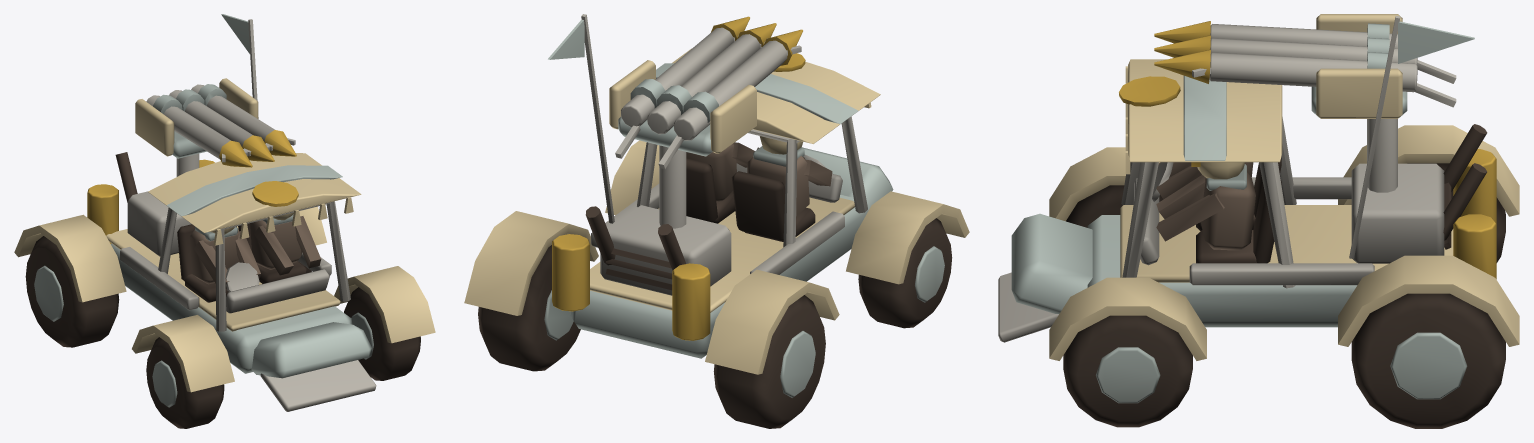
The model's file is lancer.glb.
The picture shows the model from 3 angles, left to right: view 1: azimuth 30°, elevation 25°; view 2: azimuth 150°, elevation 25°; view 3: azimuth 270°, elevation 25°; orthographic projection. The views are drawn at different scales.
Parts seen in each view (by area): view 1: Fenders, Wheels, Sun_canopy, Nose_cowl, Body_tub, Barrel_harpoon, Skid_plate, Deck, Canopy_band, Roll_cage, Crew_arms, Wheel_hubs (+16 smaller); view 2: Fenders, Wheels, Barrel_harpoon, Body_tub, Engine_block, Water_cans, Seats, Deck, Sun_canopy, Wheel_hubs, Turret_head_cheeks, Roll_cage (+15 smaller); view 3: Wheels, Fenders, Barrel_harpoon, Sun_canopy, Body_tub, Engine_block, Wheel_hubs, Deck, Nose_cowl, Side_rails, Turret_head_cheeks, Roll_cage (+17 smaller).
Boxes of the visible parts, x1,y1,x2,y2 form: Fenders: [14, 206, 435, 392]; Wheels: [25, 236, 420, 428]; Sun_canopy: [148, 153, 361, 232]; Nose_cowl: [251, 322, 371, 378]; Body_tub: [111, 243, 352, 373]; Barrel_harpoon: [146, 84, 274, 159]; Skid_plate: [260, 360, 376, 411]; Deck: [106, 226, 340, 331]; Canopy_band: [166, 165, 342, 216]; Roll_cage: [158, 201, 350, 331]; Crew_arms: [194, 216, 321, 288]; Wheel_hubs: [34, 265, 373, 407]; Fenders: [464, 140, 969, 374]; Wheels: [478, 218, 952, 428]; Barrel_harpoon: [621, 27, 787, 140]; Body_tub: [570, 194, 868, 358]; Engine_block: [600, 205, 731, 295]; Water_cans: [552, 234, 710, 340]; Seats: [686, 158, 815, 241]; Deck: [590, 197, 854, 312]; Sun_canopy: [672, 48, 880, 143]; Wheel_hubs: [544, 246, 944, 397]; Turret_head_cheeks: [609, 60, 756, 153]; Roll_cage: [637, 116, 867, 247]; Wheels: [1063, 163, 1505, 428]; Fenders: [1049, 125, 1519, 360]; Barrel_harpoon: [1209, 24, 1417, 92]; Sun_canopy: [1128, 59, 1282, 162]; Body_tub: [1087, 215, 1356, 327]; Engine_block: [1351, 163, 1444, 263]; Wheel_hubs: [1096, 332, 1467, 403]; Deck: [1120, 205, 1453, 282]; Nose_cowl: [1011, 213, 1092, 313]; Side_rails: [1189, 177, 1374, 285]; Turret_head_cheeks: [1316, 14, 1402, 118]; Roll_cage: [1121, 117, 1296, 288].
Bounding box in the file's own units: 2.46 × 2.75 × 3.38.
